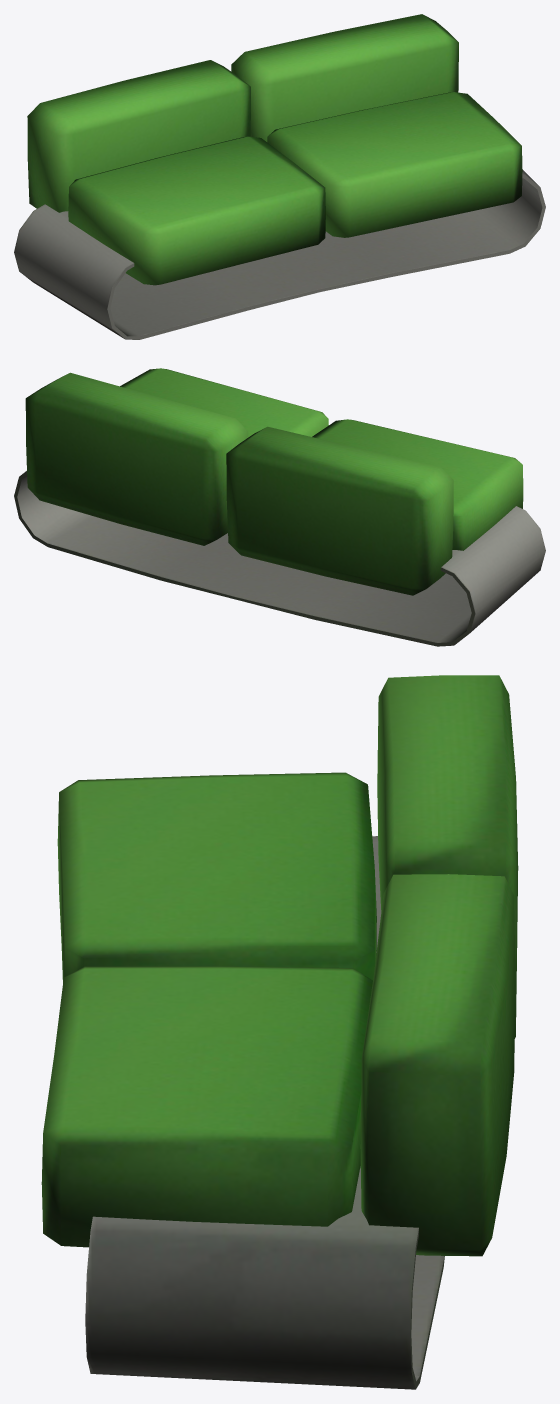
Rendered from NetW_Chair2P02_green.FBX.
The picture shows the model from 3 angles, top to bottom: view 1: azimuth 30°, elevation 25°; view 2: azimuth 150°, elevation 25°; view 3: azimuth 270°, elevation 25°; orthographic projection. The views are drawn at different scales.
Visible parts, largest first — view 1: NetW_Chair2P01; view 2: NetW_Chair2P01; view 3: NetW_Chair2P01.
Part boxes in pixels (x1,y1,x2,y2): NetW_Chair2P01: (14,14,545,339); NetW_Chair2P01: (14,368,545,646); NetW_Chair2P01: (41,675,518,1389).
Size of the model in its own units: 2.06 by 0.7159 by 0.9205.
